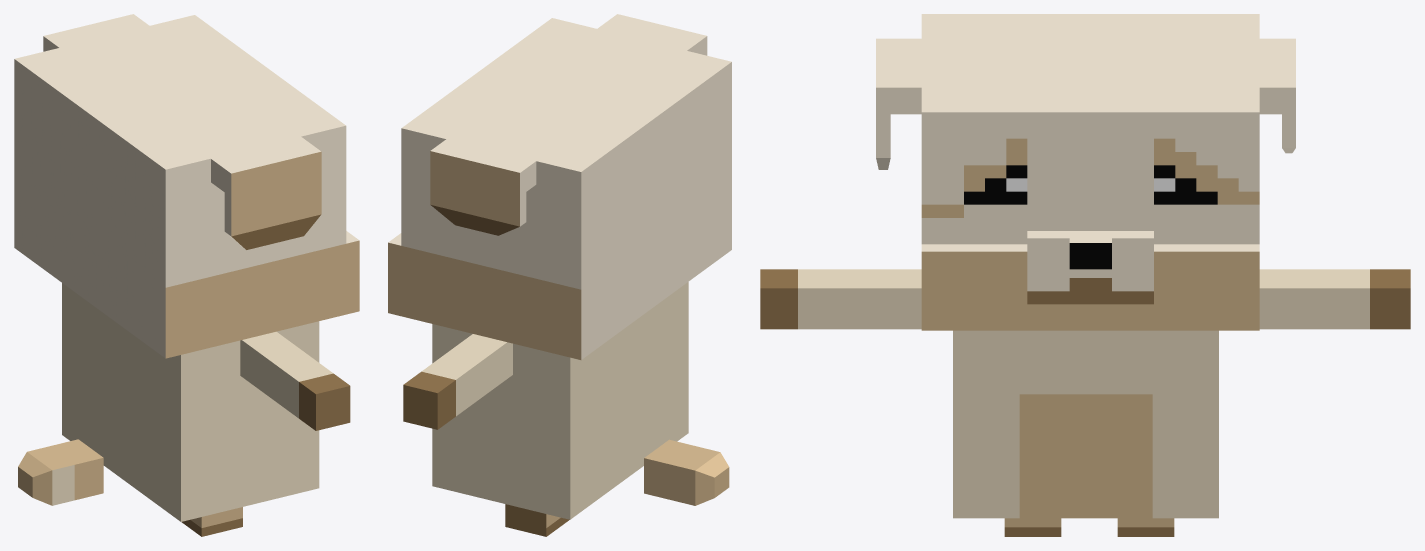
Rendered from dog.fbx.
The picture shows the model from 3 angles, left to right: view 1: azimuth 30°, elevation 25°; view 2: azimuth 150°, elevation 25°; view 3: azimuth 270°, elevation 25°; orthographic projection. The views are drawn at different scales.
Parts seen in each view (by area): view 1: Cube.006, Cube.003, Cube.002, Cube.007, Cube.004; view 2: Cube.006, Cube.003, Cube.001, Cube.007, Cube.005; view 3: Cube.006, Cube.003, Cube.002, Cube.001, Cube.004, Cube.005.
Boxes of the visible parts, box(x1,y1,x2,y2) form: Cube.006: box(14, 14, 359, 358); Cube.003: box(62, 283, 319, 521); Cube.002: box(240, 331, 350, 430); Cube.007: box(18, 439, 103, 505); Cube.004: box(181, 507, 242, 536); Cube.006: box(388, 14, 731, 359); Cube.003: box(432, 282, 688, 519); Cube.001: box(403, 334, 512, 429); Cube.007: box(644, 439, 729, 505); Cube.005: box(505, 504, 569, 536); Cube.006: box(876, 14, 1295, 330); Cube.003: box(953, 330, 1218, 518); Cube.002: box(760, 269, 921, 329); Cube.001: box(1259, 269, 1410, 329); Cube.004: box(1004, 518, 1061, 536); Cube.005: box(1117, 518, 1174, 536).
Bounding box in the file's own units: 347 × 512 × 655.
